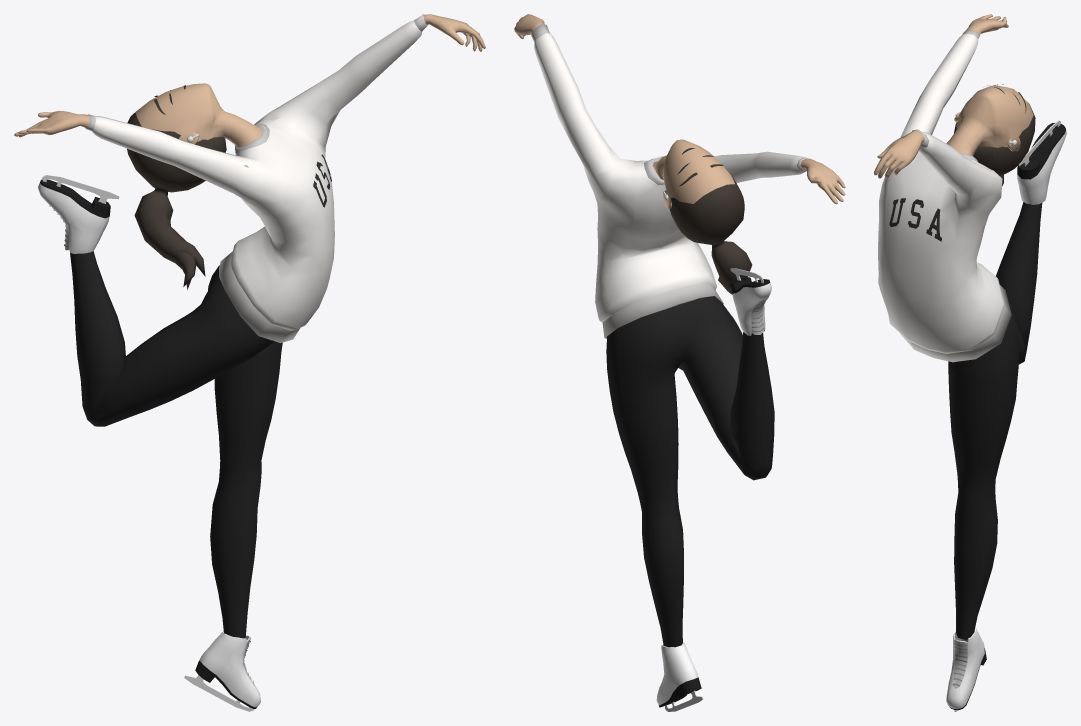
The picture shows the model from 3 angles, left to right: view 1: azimuth 30°, elevation 25°; view 2: azimuth 150°, elevation 25°; view 3: azimuth 270°, elevation 25°; orthographic projection. The views are drawn at different scales.
Parts seen in each view (by area): view 1: Cube.002, Cube.005, Cube.007, Empty; view 2: Cube.002, Cube.005, Empty, Cube.007; view 3: Cube.005, Cube.002, Cube.007, Empty.
Boxes of the visible parts, <box> form: Cube.002: <box>14,14,485,638</box>; Cube.005: <box>85,14,427,342</box>; Cube.007: <box>38,175,260,711</box>; Empty: <box>127,112,226,289</box>; Cube.002: <box>514,14,845,647</box>; Cube.005: <box>531,24,810,338</box>; Empty: <box>669,175,752,294</box>; Cube.007: <box>656,268,771,711</box>; Cube.005: <box>878,29,1011,362</box>; Cube.002: <box>874,14,1042,639</box>; Cube.007: <box>946,120,1066,711</box>; Empty: <box>954,104,1035,186</box>.
Bounding box in the file's own units: 0.9078 × 1.45 × 0.3866.
10 materials, 1 textured.
